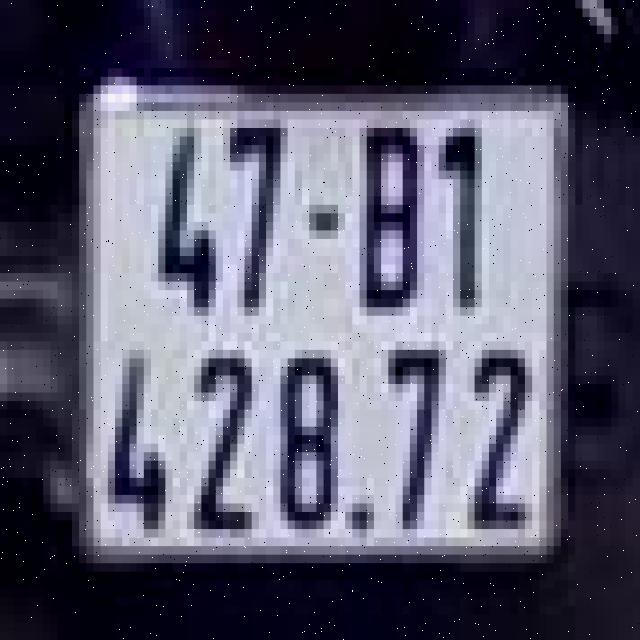1: (435, 111, 493, 333)
2: (187, 332, 266, 538), (464, 337, 543, 542)
4: (148, 115, 226, 320), (97, 337, 176, 533)
7: (378, 333, 450, 546), (227, 111, 291, 316)
8: (277, 337, 349, 533)
B: (349, 111, 428, 324)
